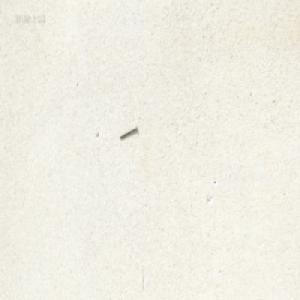Bolt: (118, 124, 136, 139)
